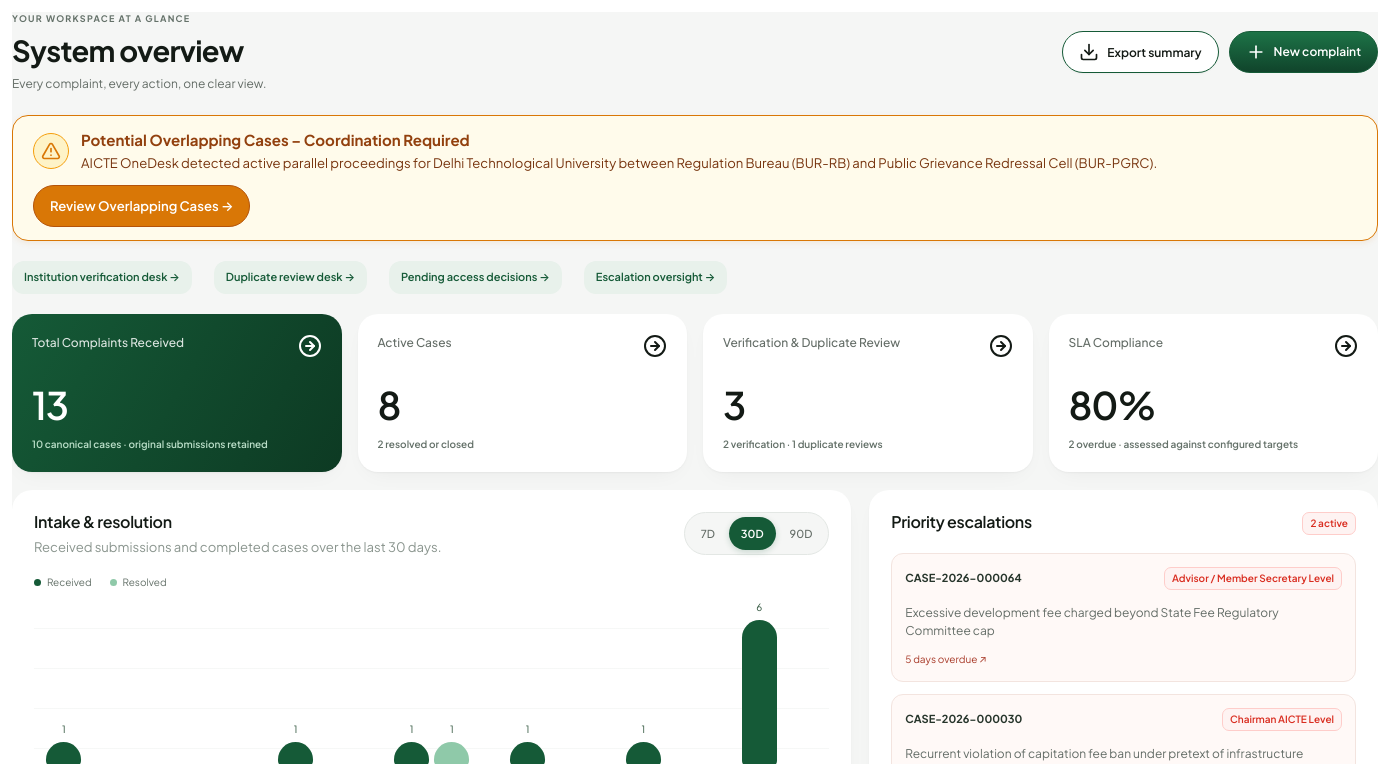
it: Refinement regressions › renders correct dashboard total without presentation controls
The width and height of the screenshot is (1378, 764).
Expected: the link "Total Complaints Received" shows "13", 12,314 -> 342,472
Click the button "7D".
click(708, 533)  # box 689,517 -> 727,550
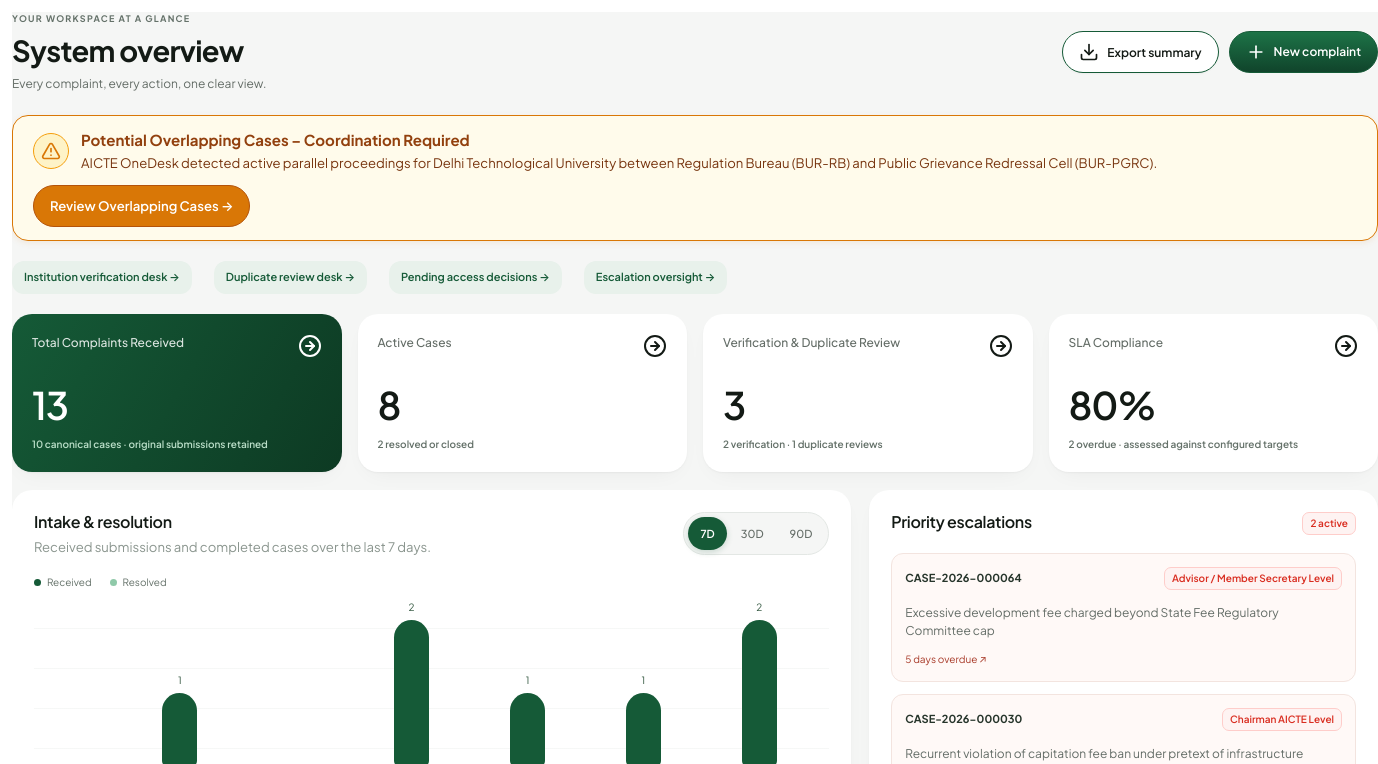
Result: the text "over the last 7 days" is shown at 34,538 -> 431,557
